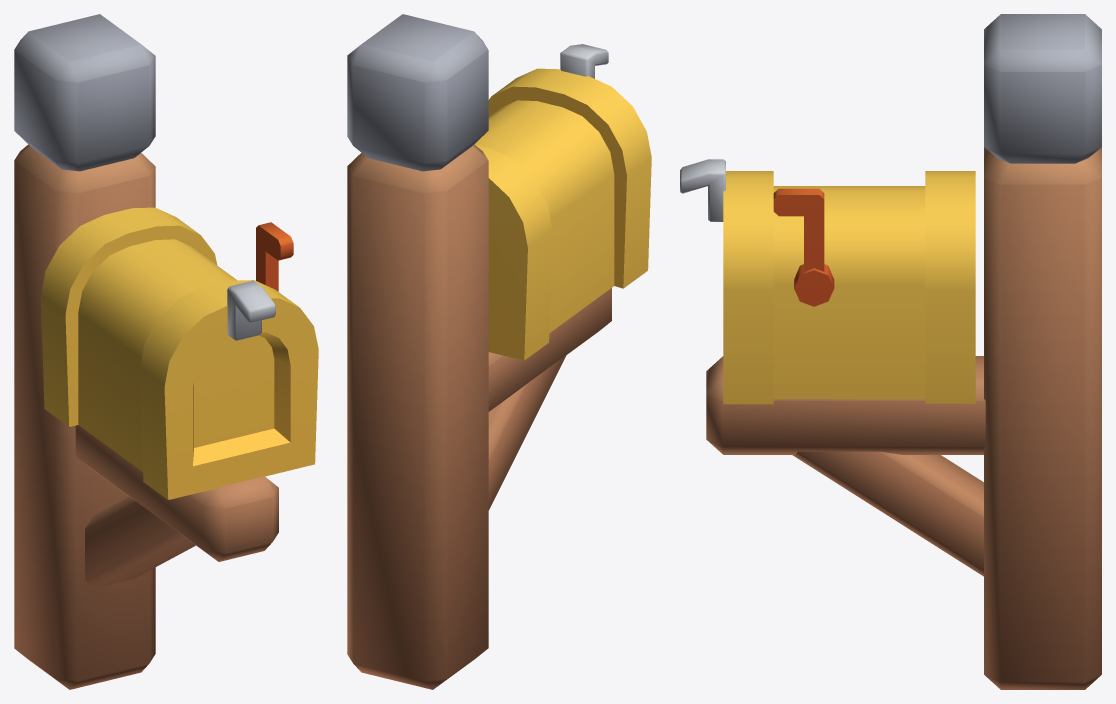
The model's file is Mailbox.glb.
3 views of the same model, side by side, from view 1: azimuth 30°, elevation 25°; view 2: azimuth 150°, elevation 25°; view 3: azimuth 270°, elevation 25° (orthographic).
Parts seen in each view (by area): view 1: mailbox, mailbox_door, mailbox_flag; view 2: mailbox, mailbox_door; view 3: mailbox, mailbox_door, mailbox_flag.
Boxes of the visible parts, box(x1,y1,x2,y2) form: mailbox: box(14, 14, 278, 689); mailbox_door: box(139, 280, 318, 499); mailbox_flag: box(256, 222, 293, 291); mailbox: box(347, 14, 614, 689); mailbox_door: box(488, 44, 651, 288); mailbox: box(706, 14, 1101, 689); mailbox_door: box(680, 159, 773, 404); mailbox_flag: box(773, 188, 834, 306).
Bounding box in the file's own units: 0.5527 × 2.1 × 1.25.
Materials: 1 (1 with a texture image).
